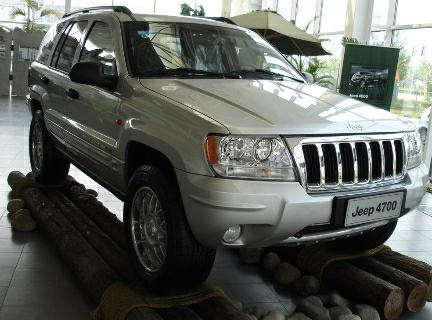Jeep-大切诺基: (19, 4, 428, 287)
